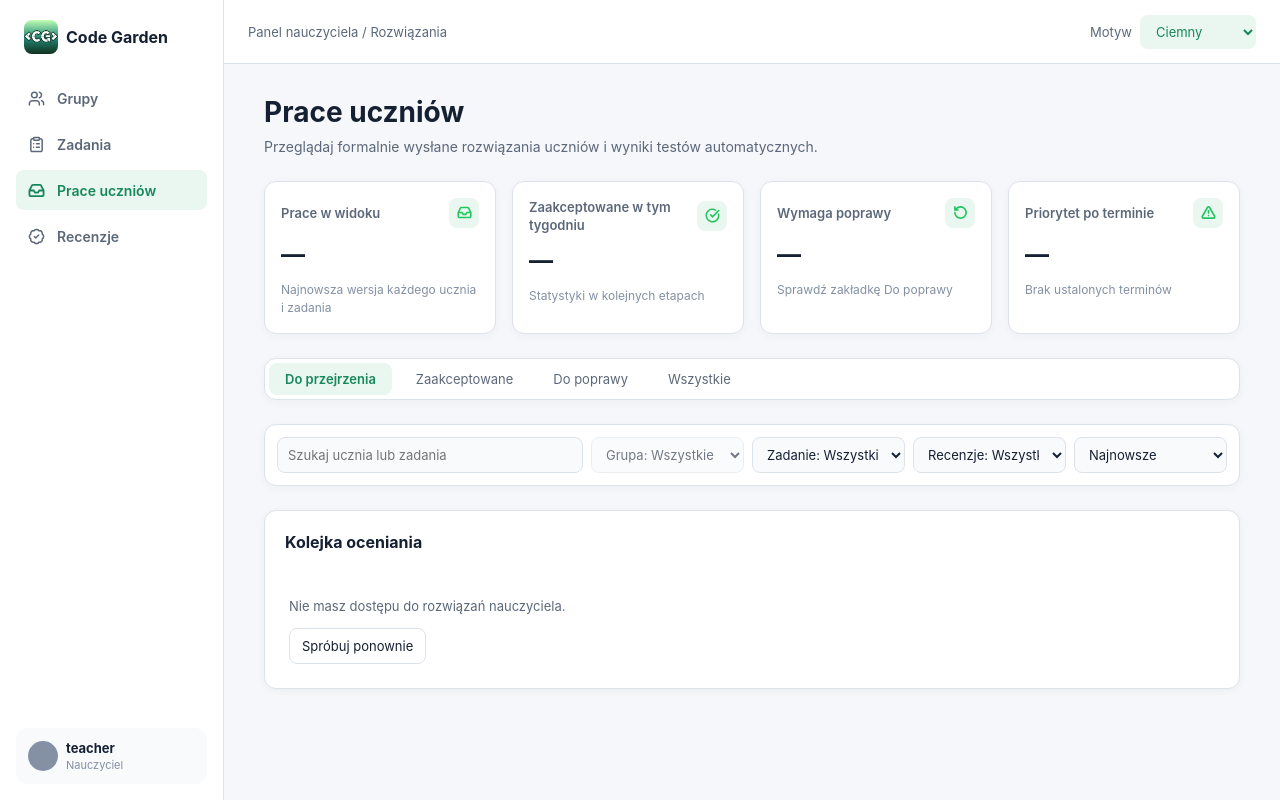
shows request errors and retries
The width and height of the screenshot is (1280, 800).
Expected: the message "Nie masz dostępu do rozwiązań nauczyciela. Spróbuj ponownie" is shown, x1=289 y1=598 x2=566 y2=664
Click the button "Spróbuj ponownie".
click(358, 646)  # box x1=289 y1=628 x2=426 y2=664
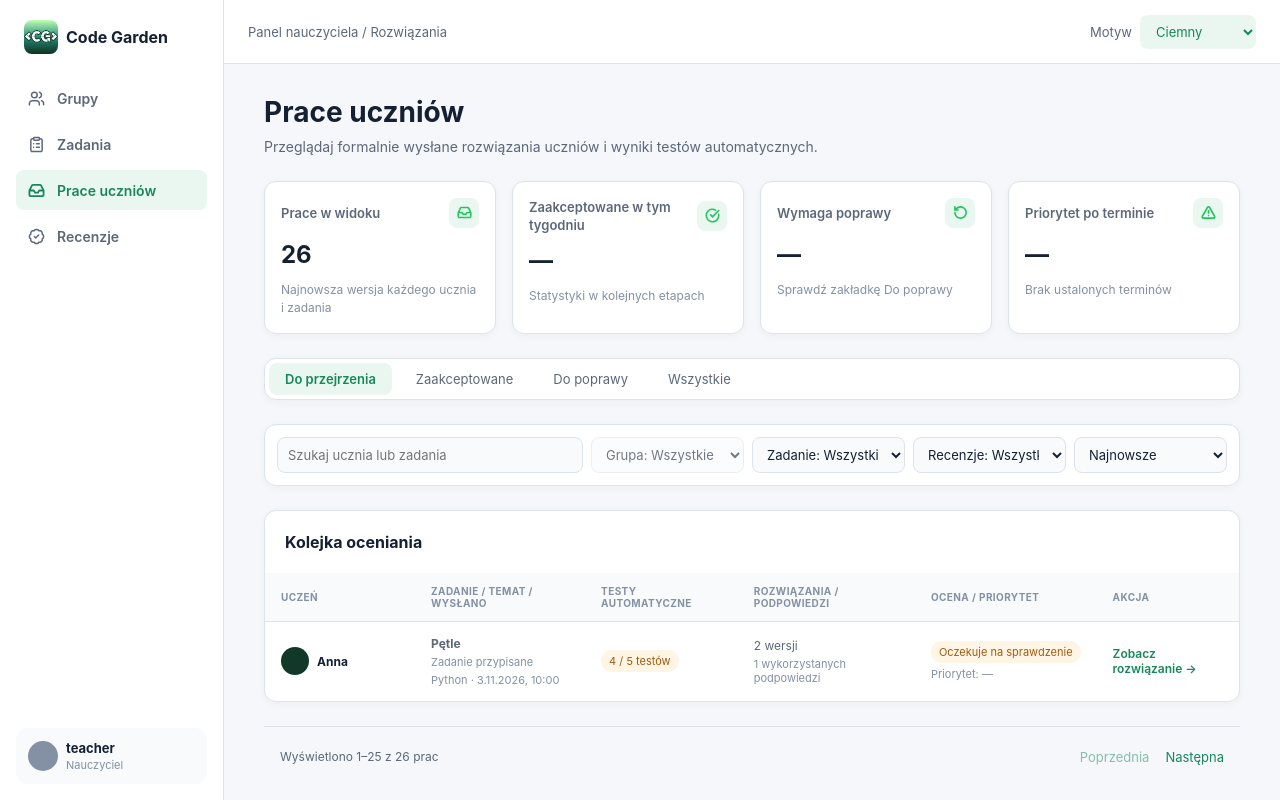
Result: the text "Anna" is shown at x1=317 y1=654 x2=348 y2=669
